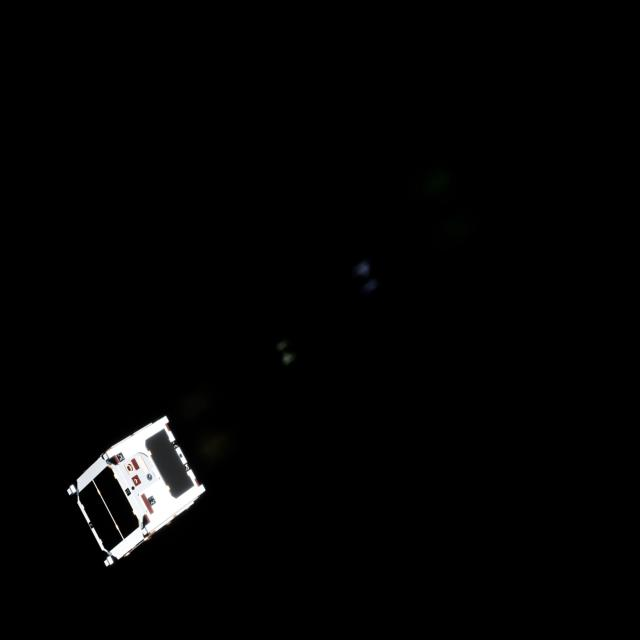satellite: (60, 409, 211, 576)
